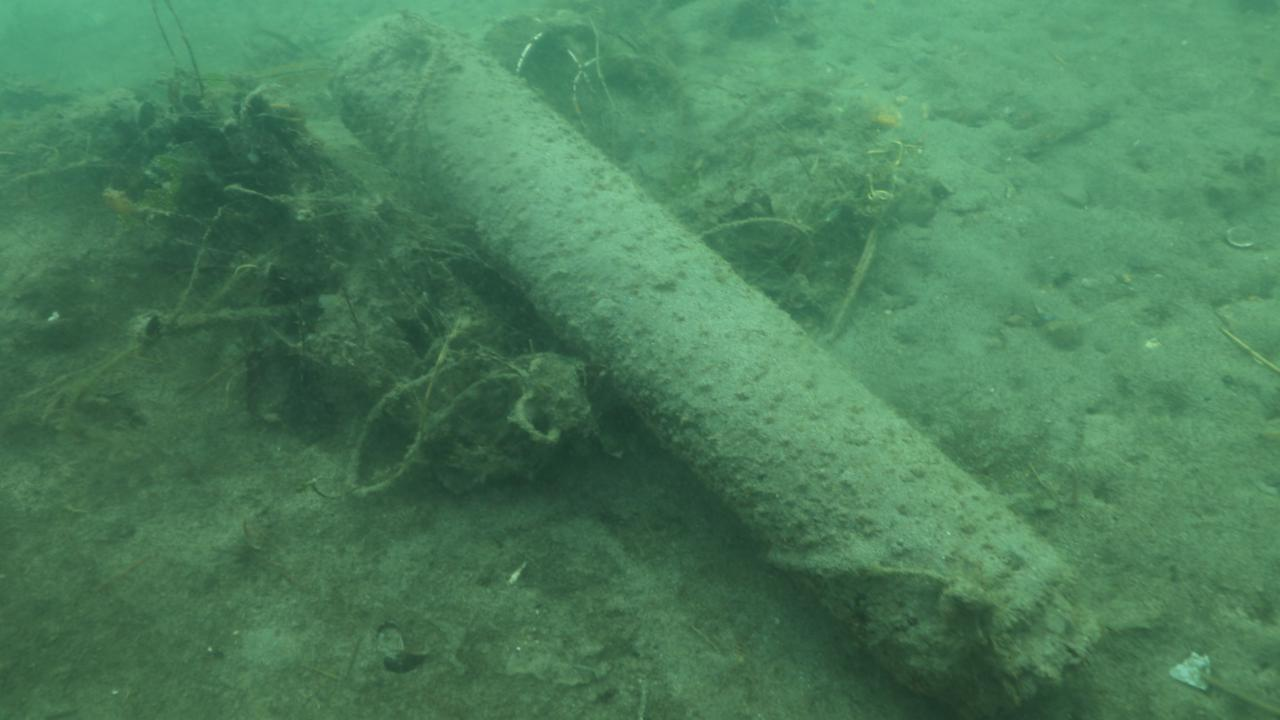eel fish trap: (329, 5, 1107, 719)
